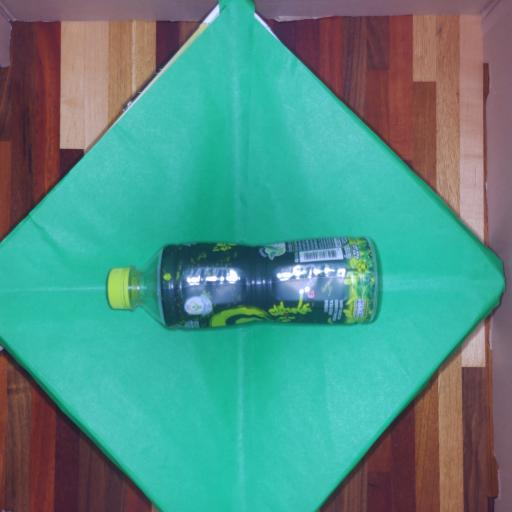bottle: (94, 222, 401, 344)
